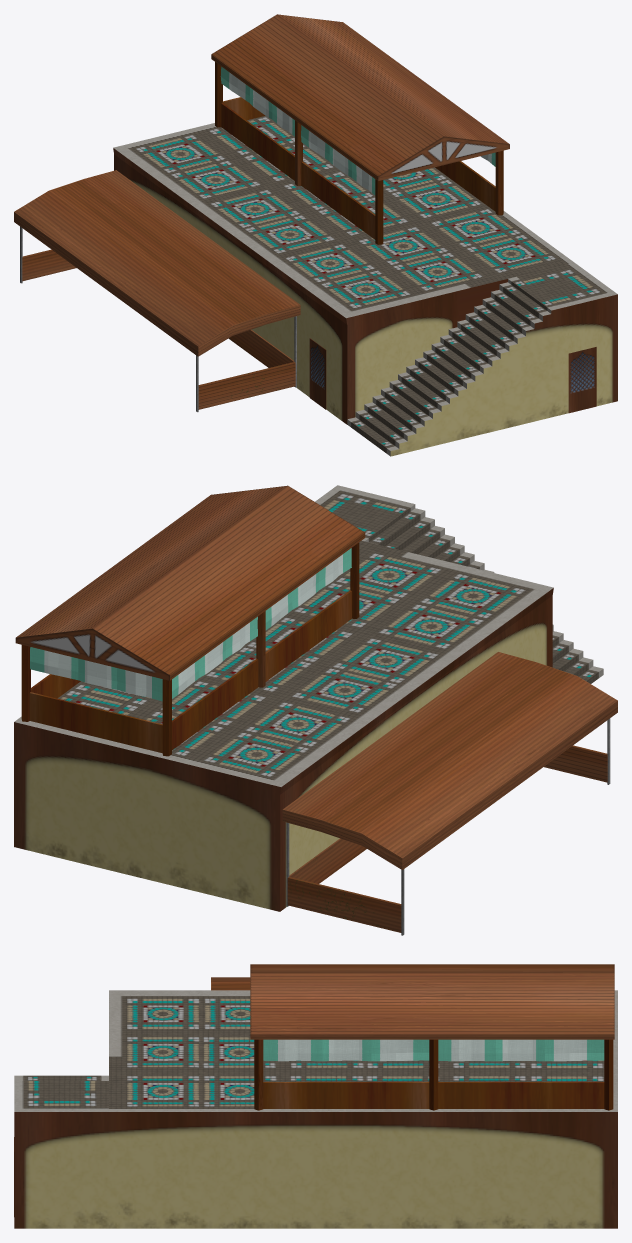
File: street_restaurant_bd02.FBX
3 views of the same model, one above another, from view 1: azimuth 30°, elevation 25°; view 2: azimuth 150°, elevation 25°; view 3: azimuth 270°, elevation 25° (orthographic). The views are drawn at different scales.
Visible parts, largest first — view 1: street_restaurant_bd02; view 2: street_restaurant_bd02; view 3: street_restaurant_bd02.
Boxes of the visible parts, x1,y1,x2,y2 form: street_restaurant_bd02: (14, 14, 617, 456); street_restaurant_bd02: (14, 485, 617, 935); street_restaurant_bd02: (14, 964, 617, 1228).
Size of the model in its own units: 1215 by 710 by 1765.
Materials: 1 (1 with a texture image).
